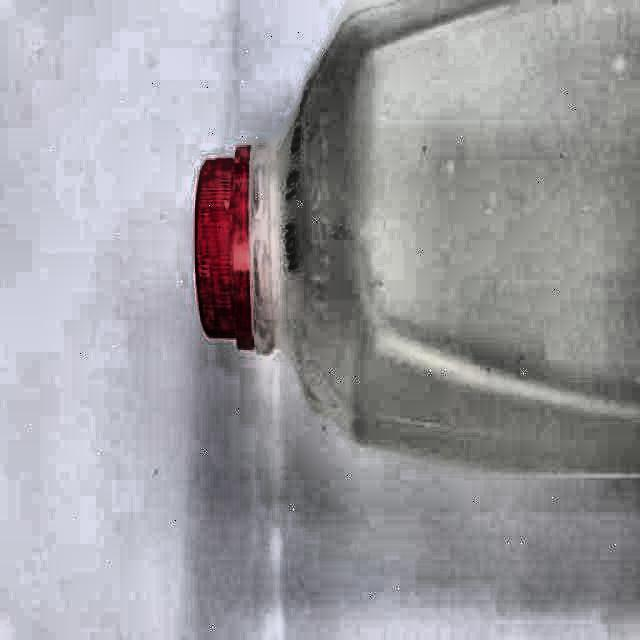plastic: (193, 0, 640, 480)
